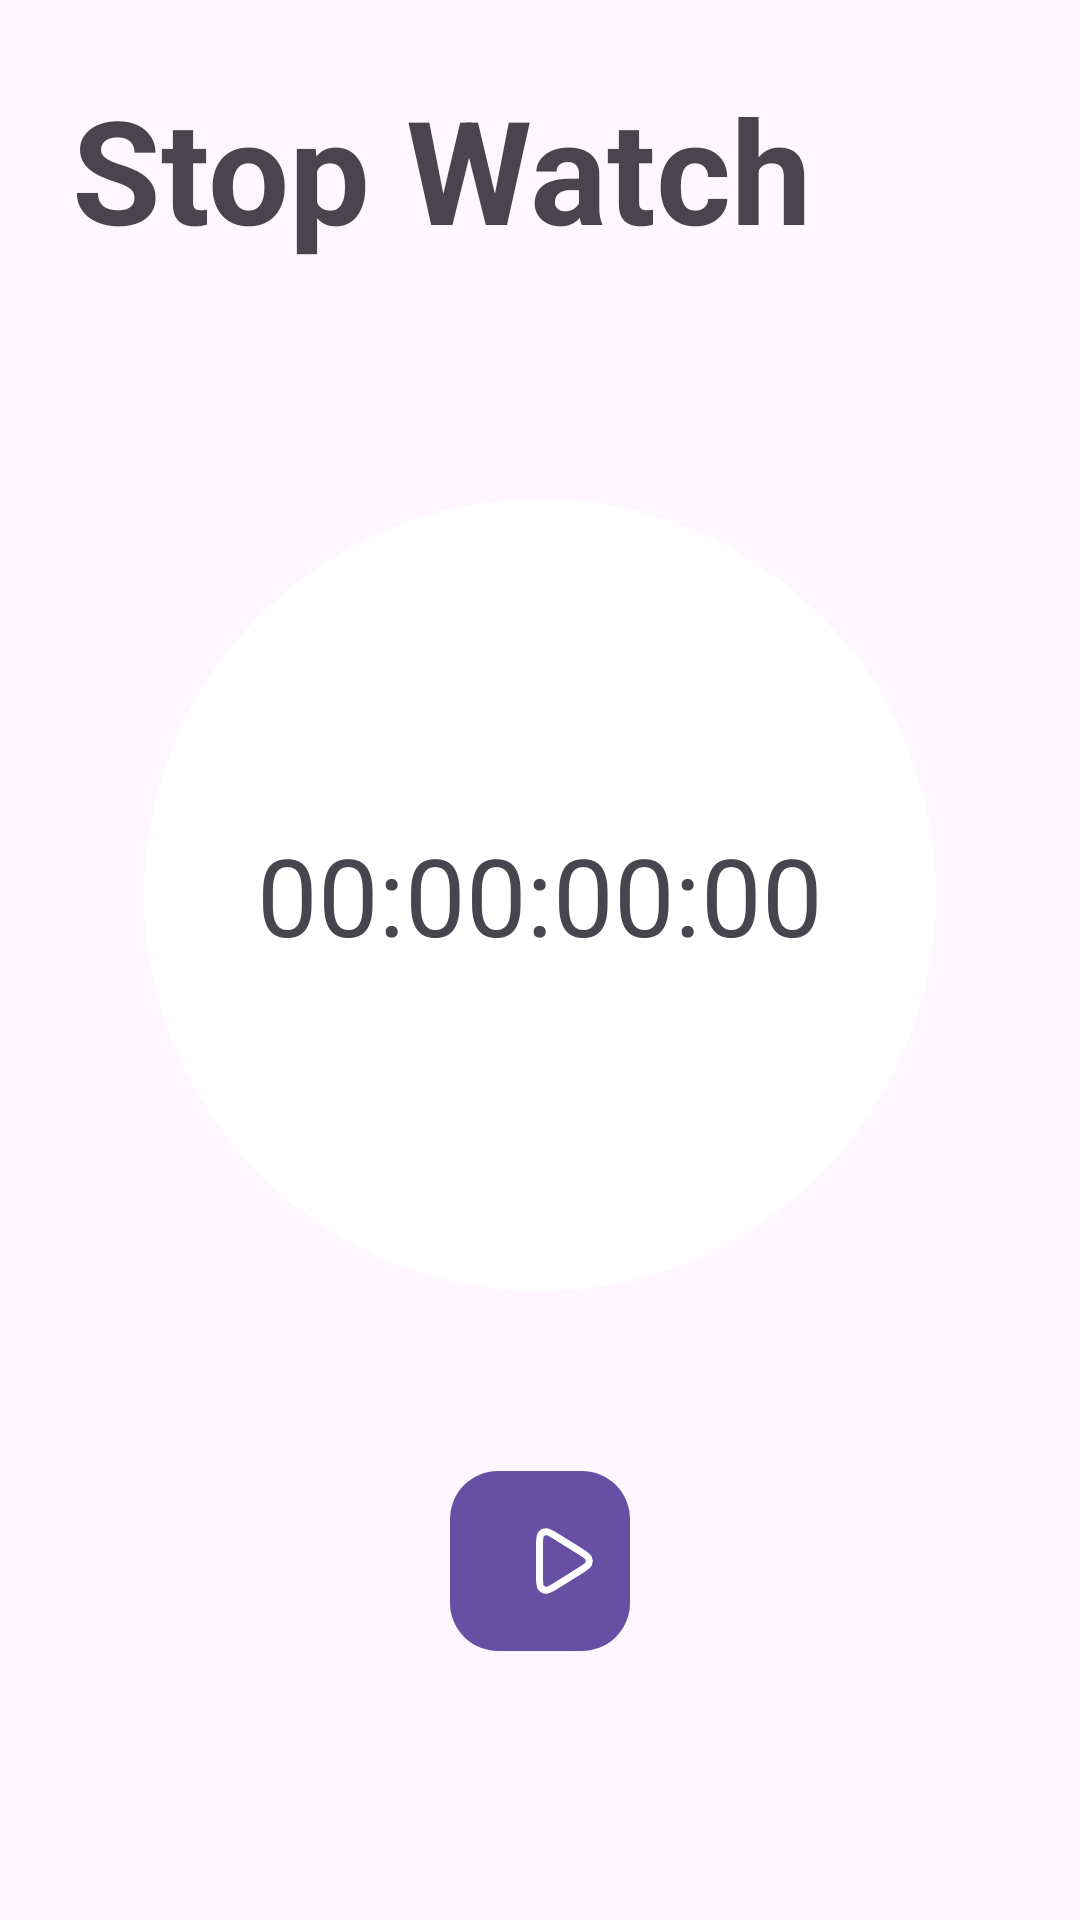

Named icons in this screenshot (1080px x 1920px) and their centers, point (x, y):
play: point (540, 1561)
